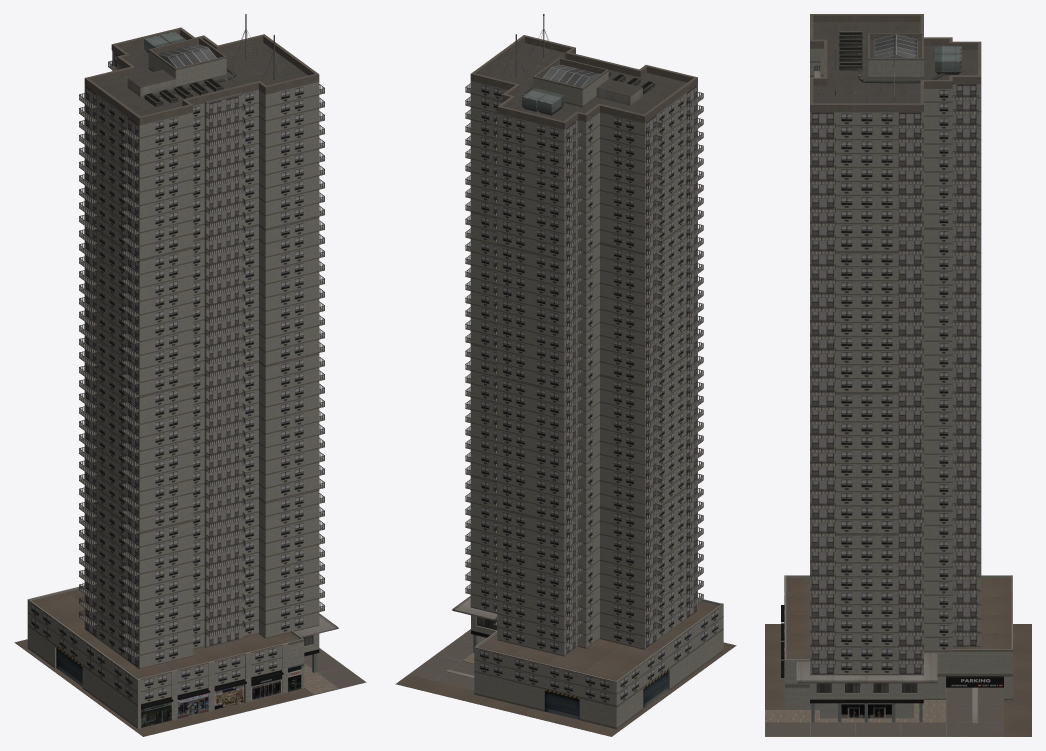
The model's file is ny-hirise.glb.
3 renders of one model, left to right at view 1: azimuth 30°, elevation 25°; view 2: azimuth 150°, elevation 25°; view 3: azimuth 270°, elevation 25°, orthographic. The views are drawn at different scales.
Parts seen in each view (by area): view 1: hirise1_hirise1_0; view 2: hirise1_hirise1_0; view 3: hirise1_hirise1_0.
Part boxes in pixels (x1=…): hirise1_hirise1_0: x1=14, y1=14, x2=366, y2=736; hirise1_hirise1_0: x1=395, y1=14, x2=736, y2=736; hirise1_hirise1_0: x1=765, y1=14, x2=1031, y2=736.
Size of the model in its own units: 5401 by 14711 by 5401.
Materials: 1 (1 with a texture image).
